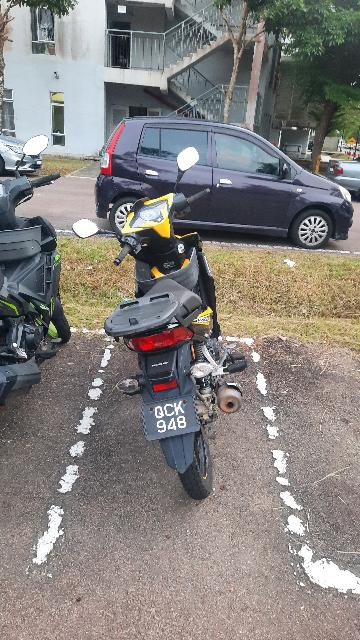License_Plate: (135, 388, 200, 442)
car: (96, 118, 355, 249)
motorcycle: (72, 147, 252, 507), (1, 115, 87, 425)
